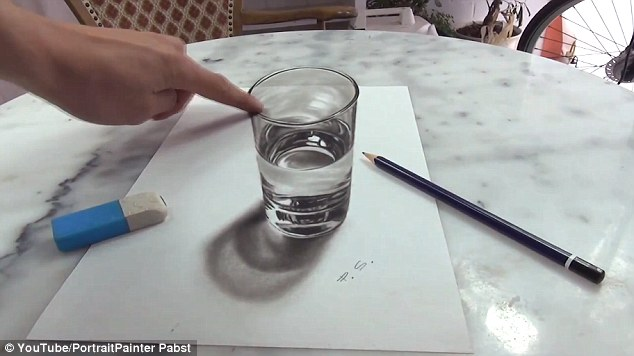glass of water: (235, 57, 354, 249)
